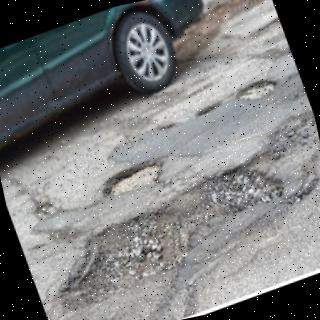pothole: (61, 160, 283, 307), (101, 161, 158, 196), (240, 80, 276, 99)
